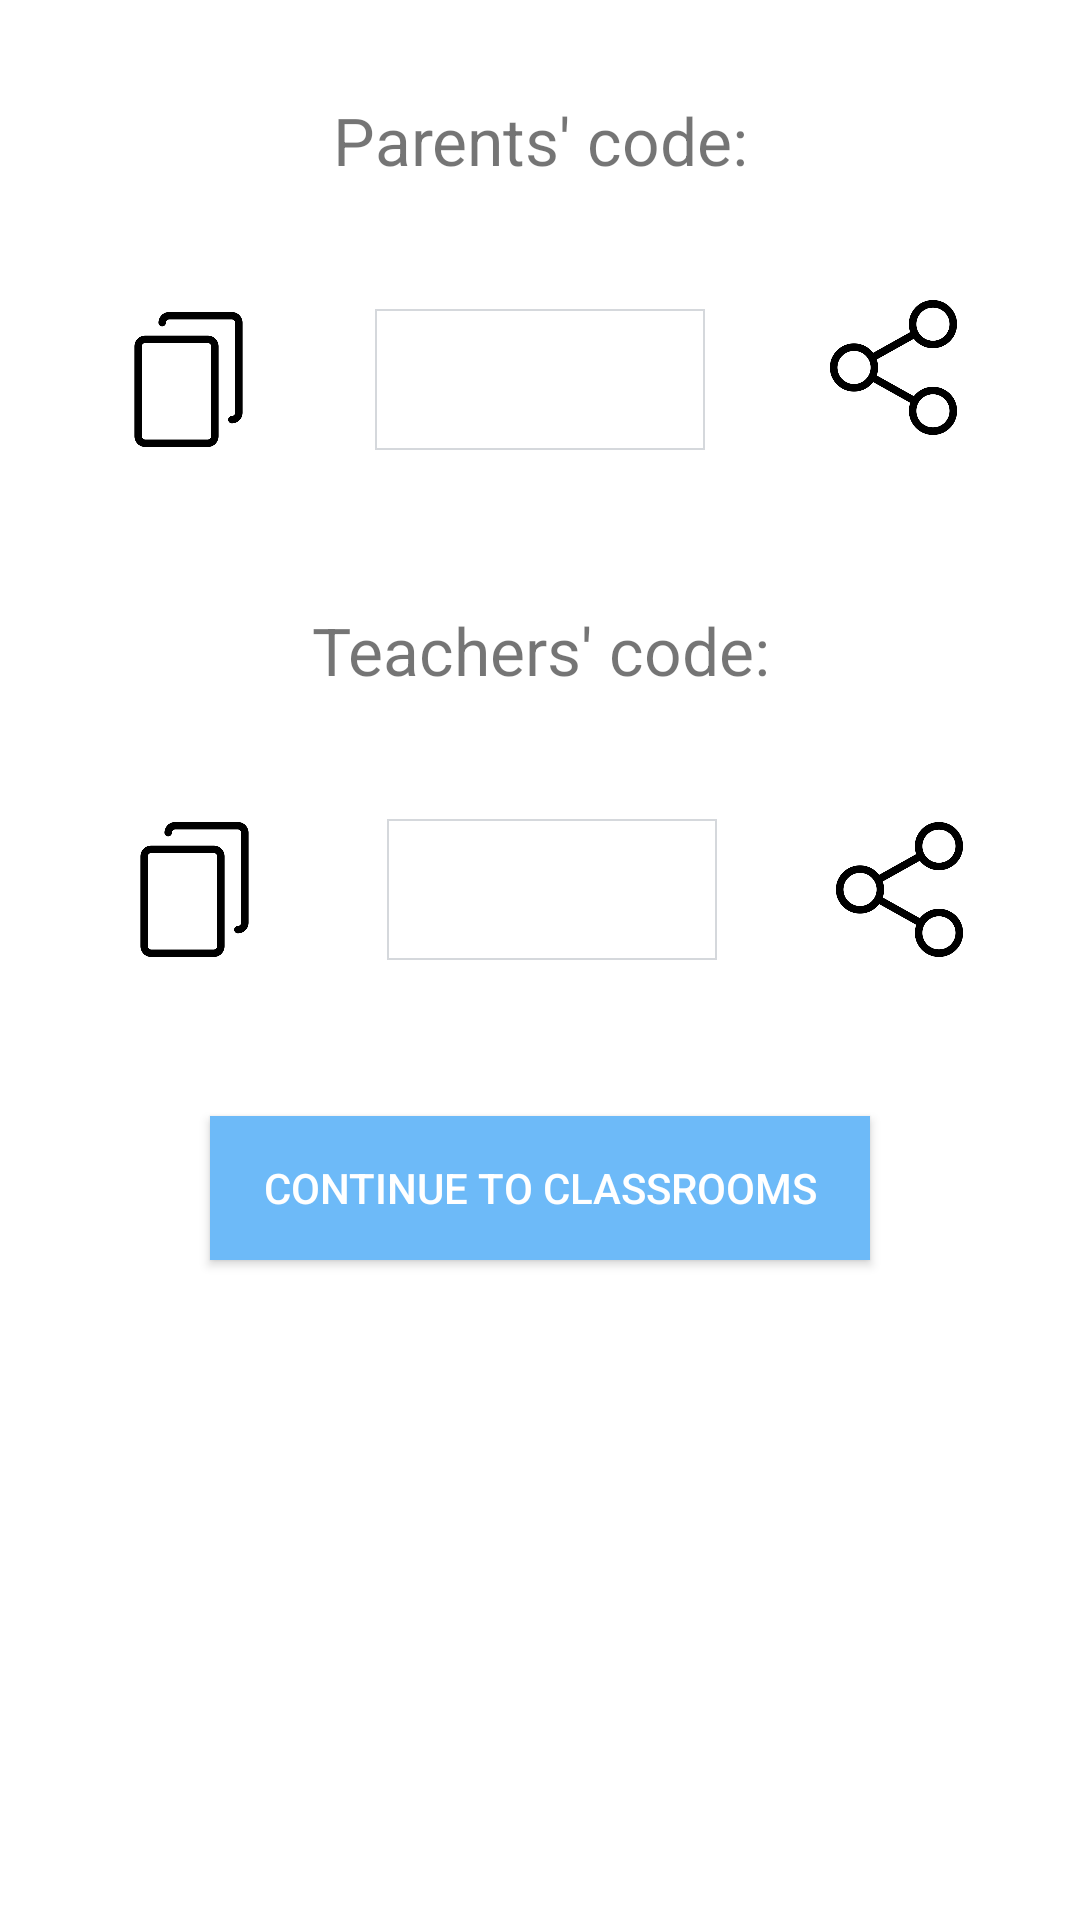

Icon click points for this 1080px x 1920px phone screenshot, format [x,y]:
share: [893,367], [899,889]
